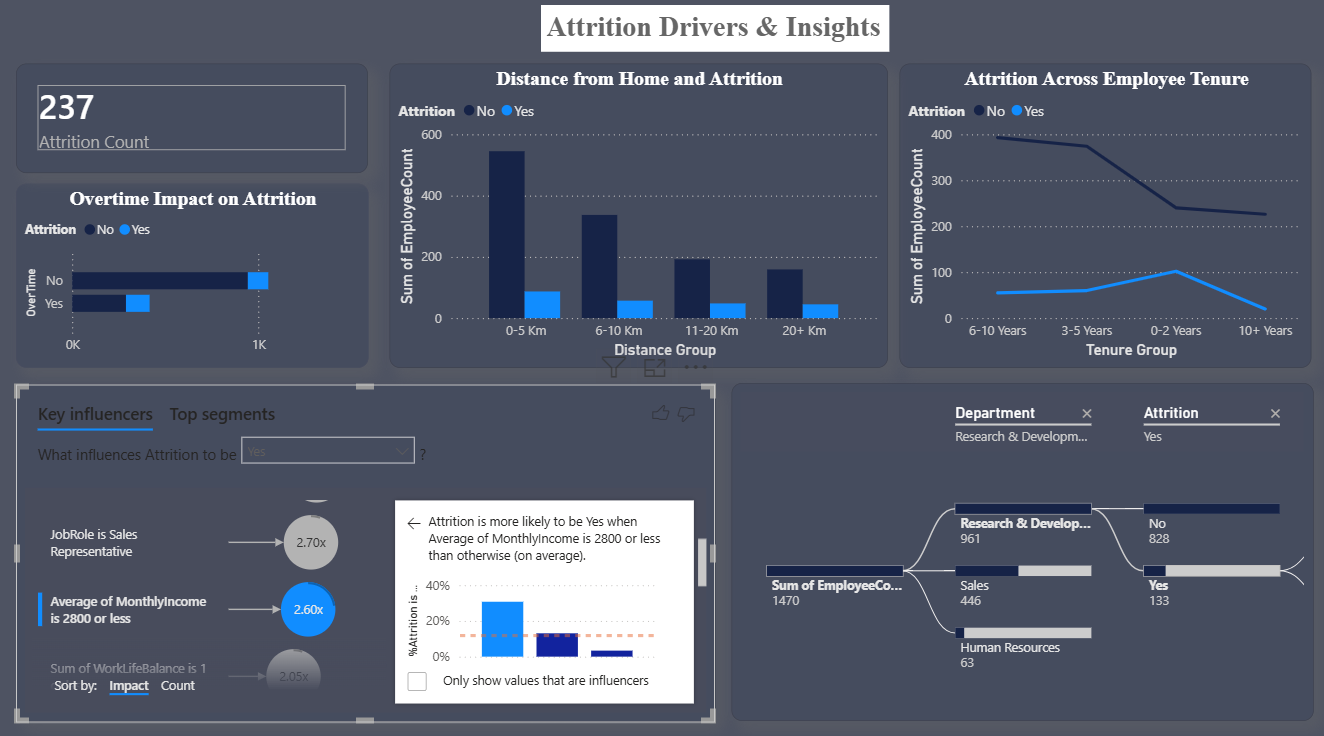

This screenshot's page, from the dashboard's own definition file:
{"tool":"powerbi","page":{"name":"Attrition Drivers & Insights","canvas":[1280,720],"ordinal":4},"visuals":[{"type":"textbox","box":[529.7,14.3,332.4,44.5],"z":0},{"type":"barChart","title":"Overtime Impact on Attrition","fields":{"Category":["HR.OverTime"],"Y":["Sum(HR.EmployeeCount)"],"Series":["HR.Attrition"]},"box":[28.6,184.1,336.5,176.2],"z":1000},{"type":"clusteredColumnChart","title":"Distance from Home and Attrition","fields":{"Y":["Sum(HR.EmployeeCount)"],"Series":["HR.Attrition"],"Category":["HR.Distance Group"]},"box":[385.7,69.8,476.2,290.5],"z":2000},{"type":"lineChart","title":"Attrition Across Employee Tenure","fields":{"Category":["HR.Tenure Group"],"Series":["HR.Attrition"],"Y":["Sum(HR.EmployeeCount)"]},"box":[873,69.8,393.7,290.5],"z":3000},{"type":"keyDriversVisual","fields":{"Target":["HR.Attrition"],"ExplainBy":["HR.OverTime","Sum(HR.DistanceFromHome)","Sum(HR.WorkLifeBalance)","Sum(HR.JobSatisfaction)","HR.BusinessTravel","HR.Department","Avg(HR.MonthlyIncome)","Avg(HR.Age)","HR.JobRole"]},"box":[28.6,376.2,668.3,322.2],"z":4000},{"type":"decompositionTreeVisual","fields":{"Analyze":["Sum(HR.EmployeeCount)"],"ExplainBy":["HR.Department","HR.Attrition","HR.OverTime","HR.BusinessTravel","HR.JobRole"]},"box":[711.7,375.5,555.7,322.5],"z":5000},{"type":"cardVisual","title":"Employees Lost","fields":{"Data":["HR.Attrition Count"]},"box":[28.8,69.7,336.2,104.5],"z":6000}]}

Visuals, with their boxes in screenshot pixels (x1, y1, x2, y2), scaled from the page's 1280x720 canvas onto the 1324x736 screenshot:
textbox: BBox(548, 15, 892, 60)
"Overtime Impact on Attrition" barChart: BBox(30, 188, 378, 368)
"Distance from Home and Attrition" clusteredColumnChart: BBox(399, 71, 892, 368)
"Attrition Across Employee Tenure" lineChart: BBox(903, 71, 1310, 368)
keyDriversVisual - HR.Attrition x HR.OverTime: BBox(30, 385, 721, 714)
decompositionTreeVisual - Sum(HR.EmployeeCount) x HR.Department: BBox(736, 384, 1311, 714)
"Employees Lost" cardVisual: BBox(30, 71, 378, 178)
